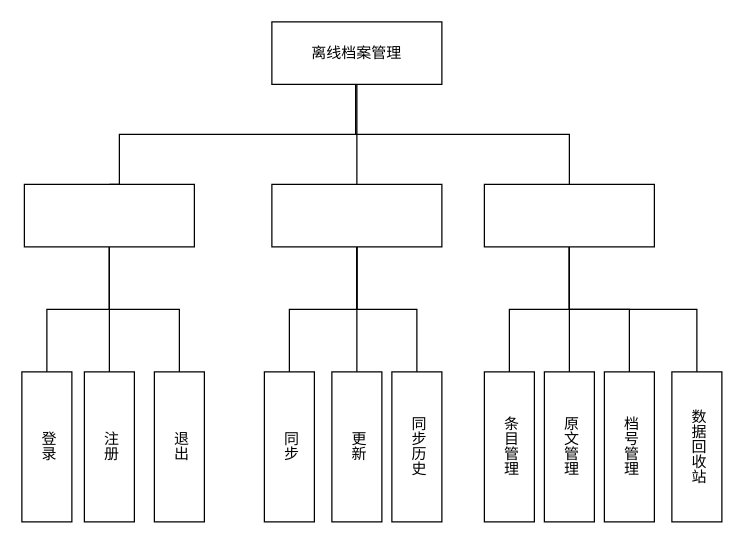
Some shapes in this 744 by 544 pixel diagram are drawn without their labels. Each missing label, with the centre of its shape:
"数据同步" belongs at pixel 356 215.
"档案注录" belongs at pixel 568 215.
"用户管理" belongs at pixel 108 215.
